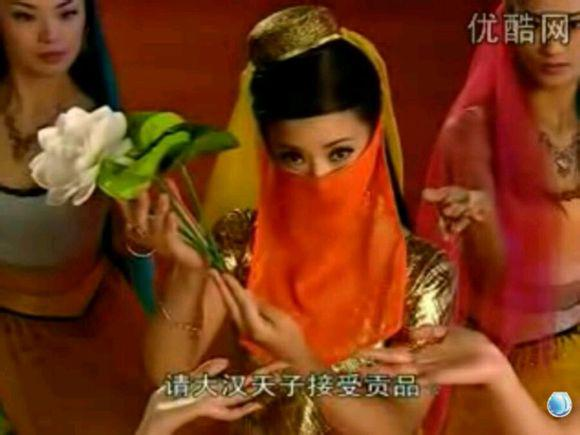NONE: (10, 1, 86, 77), (518, 12, 580, 88)
OK: (271, 124, 373, 226)
